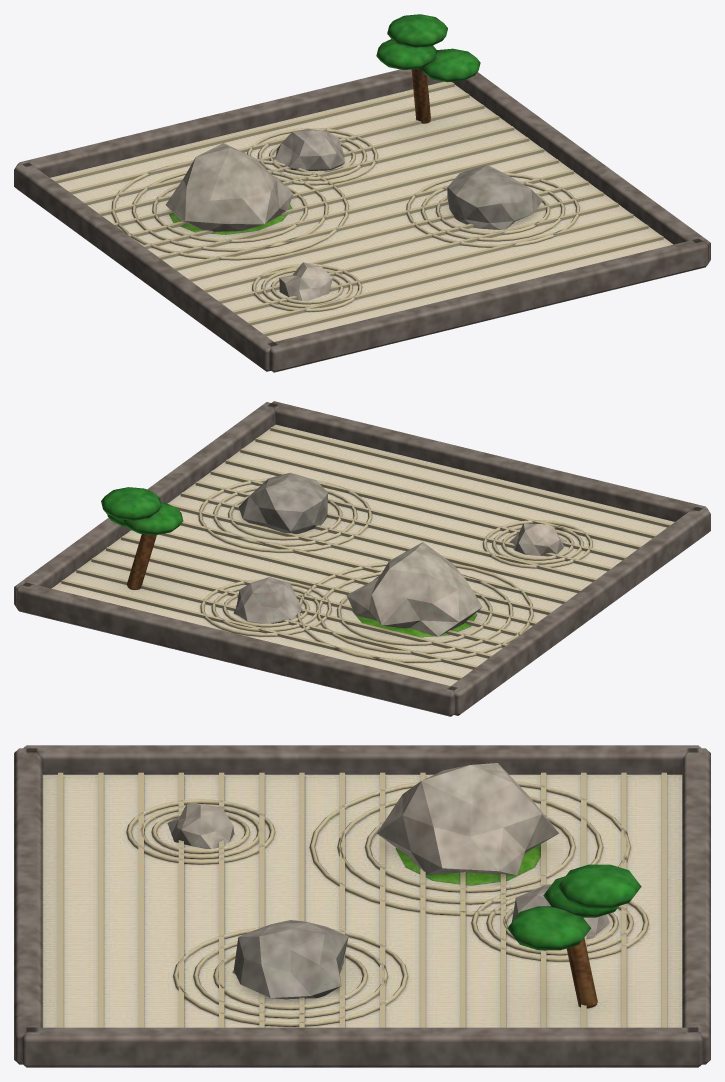
Rendered from zen_garden.glb.
The picture shows the model from 3 angles, top to bottom: view 1: azimuth 30°, elevation 25°; view 2: azimuth 150°, elevation 25°; view 3: azimuth 270°, elevation 25°; orthographic projection. The views are drawn at different scales.
Parts seen in each view (by area): view 1: zen_garden; view 2: zen_garden; view 3: zen_garden.
Boxes of the visible parts, x1,y1,x2,y2 form: zen_garden: (14,14,710,372); zen_garden: (14,401,710,716); zen_garden: (14,745,710,1067).
Size of the model in its own units: 1.94 by 0.465 by 1.94.
1 material, 1 textured.
